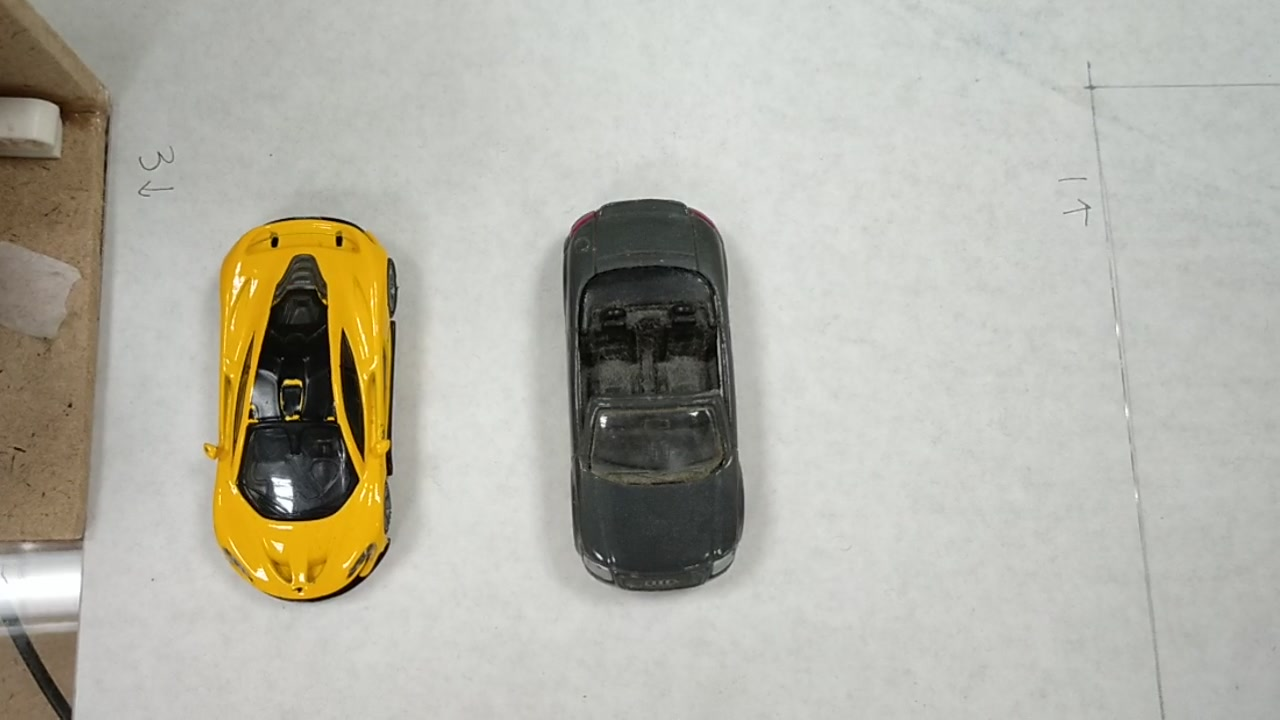car: (209, 219, 394, 570), (569, 197, 741, 571)
